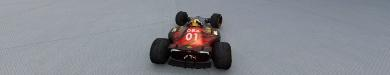Car: (148, 10, 232, 70)
grass: (0, 0, 389, 74)
